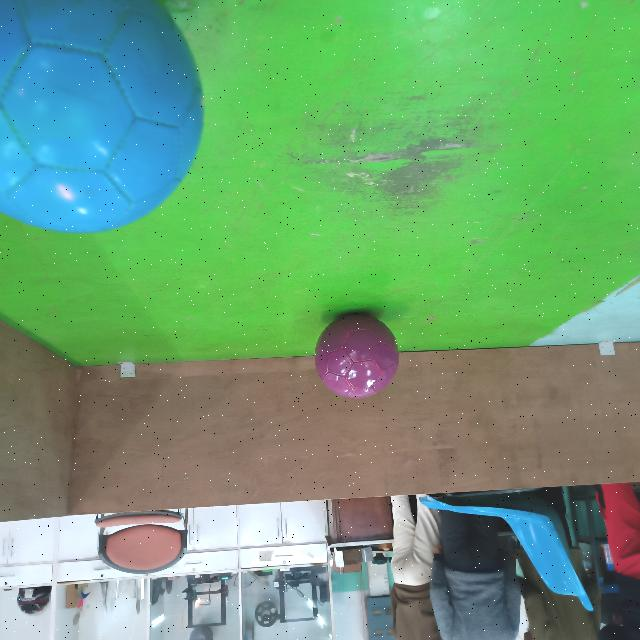B: (1, 2, 210, 238)
P: (313, 312, 402, 401)
